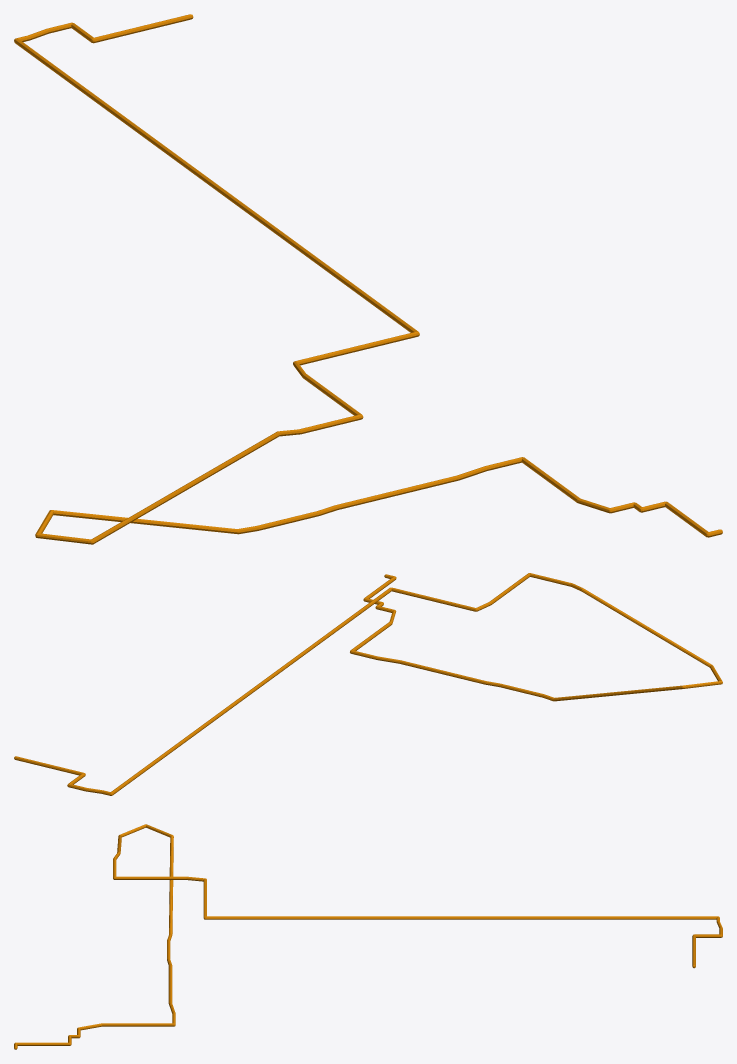
The picture shows the model from 3 angles, top to bottom: view 1: azimuth 30°, elevation 25°; view 2: azimuth 150°, elevation 25°; view 3: azimuth 270°, elevation 25°; orthographic projection. The views are drawn at different scales.
Size of the model in its own units: 2406 by 520 by 3939.
